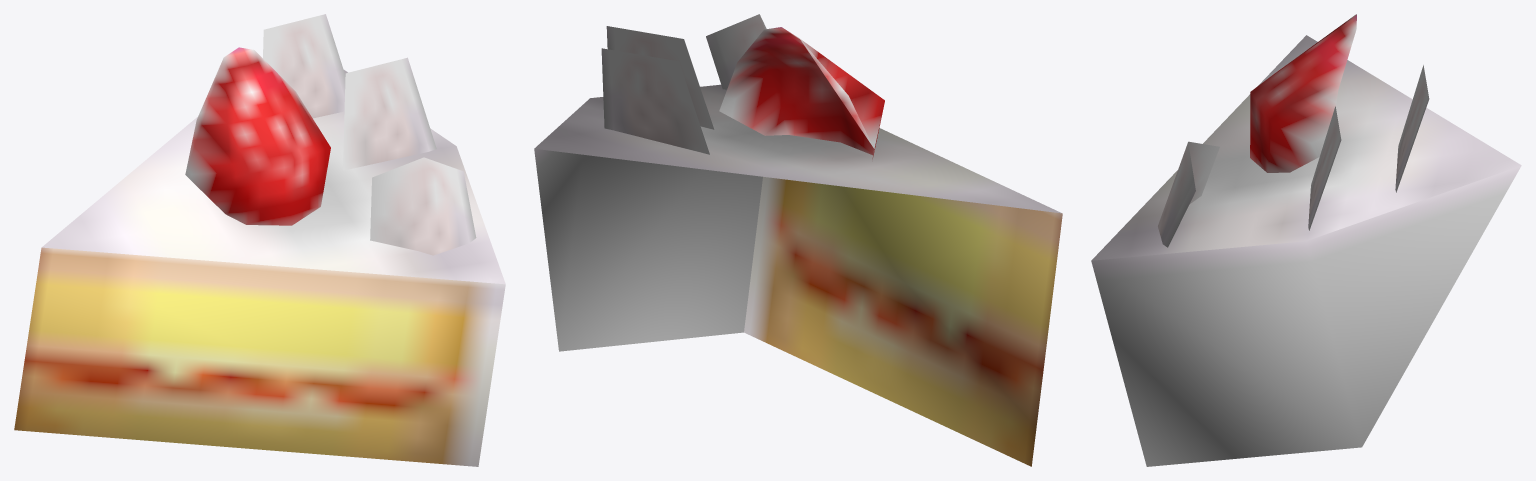
File: fg_cake_out.dae
3 views of the same model, side by side, from view 1: azimuth 30°, elevation 25°; view 2: azimuth 150°, elevation 25°; view 3: azimuth 270°, elevation 25° (orthographic). The views are drawn at different scales.
Visible parts, largest first — view 1: fg_cake_out; view 2: fg_cake_out; view 3: fg_cake_out.
Boxes of the visible parts, x1,y1,x2,y2 form: fg_cake_out: (14,14,505,466); fg_cake_out: (534,14,1062,466); fg_cake_out: (1091,14,1521,466).
Bounding box in the file's own units: 12.79 × 11.11 × 11.29.
1 material, 1 textured.
